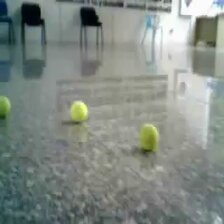tennis: (138, 125, 158, 150), (69, 99, 88, 121), (1, 95, 12, 119)
